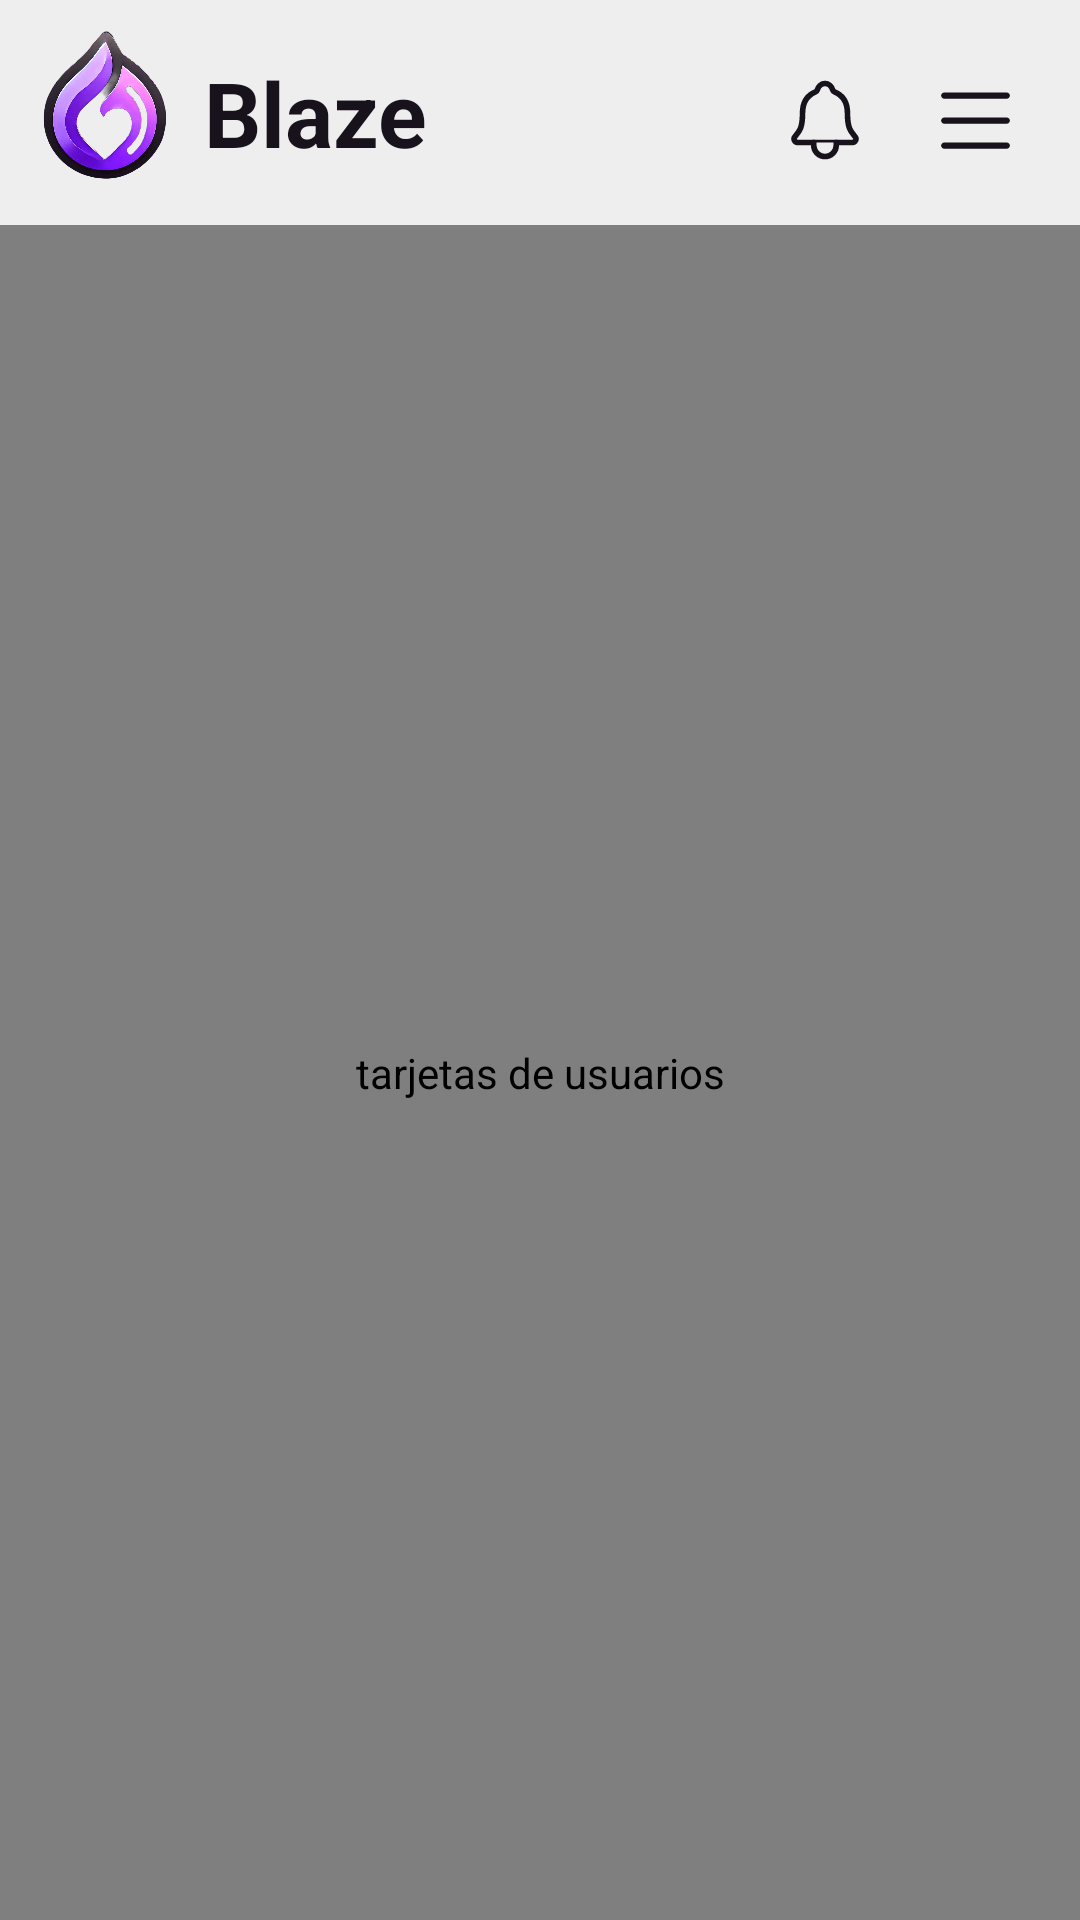

Screen size 1080w x 1920h. Icon name, then its box in pixels as [x1, y1, x2, y2]:
menu: [941, 92, 1010, 149]
notifications: [791, 80, 859, 160]
